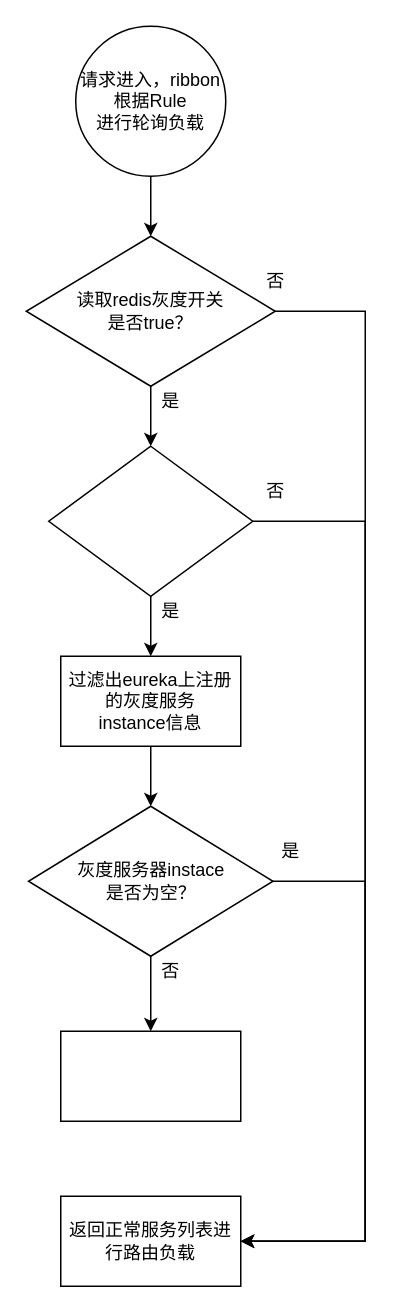
Some shapes in this 404 by 1313 pixel diagram are drawn without their labels. The centre of each missing label's shape, as x and y in pixels:
判断请求头是否 携带”gray“标识？: (150,520)
返回灰度服务列表进行路由负载: (150,1075)
